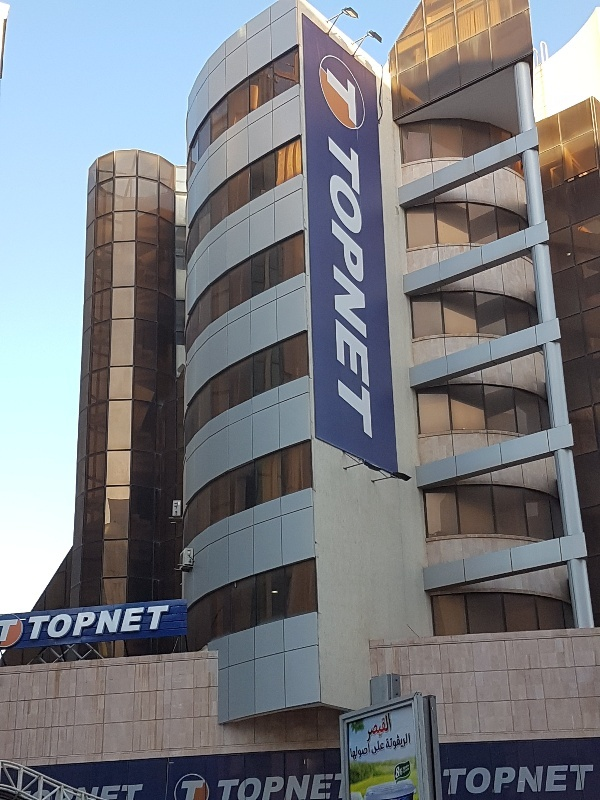text: (337, 124, 352, 440), (353, 124, 368, 440), (328, 124, 336, 440), (369, 124, 373, 440), (337, 62, 352, 128), (327, 62, 336, 128), (33, 605, 48, 640), (49, 605, 64, 640), (65, 605, 80, 640), (81, 605, 96, 640), (97, 605, 112, 640), (113, 605, 128, 640), (129, 605, 144, 640), (145, 605, 160, 640), (449, 764, 464, 796), (465, 764, 480, 796), (481, 764, 496, 796), (497, 764, 512, 796), (513, 764, 528, 796), (529, 764, 544, 796), (545, 764, 560, 796), (561, 764, 576, 796), (577, 764, 592, 796), (369, 712, 384, 743), (225, 774, 240, 800), (241, 774, 256, 800), (257, 774, 272, 800), (273, 774, 288, 800), (289, 774, 304, 800), (305, 774, 320, 800), (321, 774, 335, 800), (1, 619, 16, 643), (161, 605, 171, 640), (385, 731, 400, 753), (353, 742, 368, 762), (353, 62, 357, 128), (129, 784, 145, 800), (385, 712, 393, 743), (401, 731, 412, 753), (193, 780, 205, 800), (33, 784, 48, 800), (49, 784, 64, 800), (65, 784, 80, 800), (81, 784, 96, 800), (97, 784, 112, 800), (113, 784, 128, 800), (370, 739, 384, 756), (337, 773, 345, 800), (183, 780, 192, 800), (443, 764, 448, 796), (218, 774, 224, 800), (402, 762, 416, 771), (29, 605, 32, 640), (403, 768, 416, 775), (17, 619, 20, 643), (593, 764, 595, 796), (349, 742, 352, 762), (396, 766, 400, 780), (369, 742, 371, 762), (385, 739, 386, 756)
